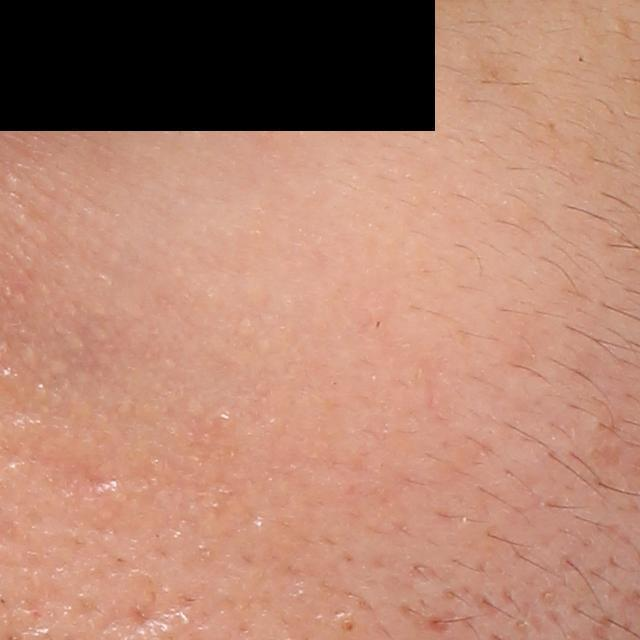comedo: (334, 610, 360, 635)
